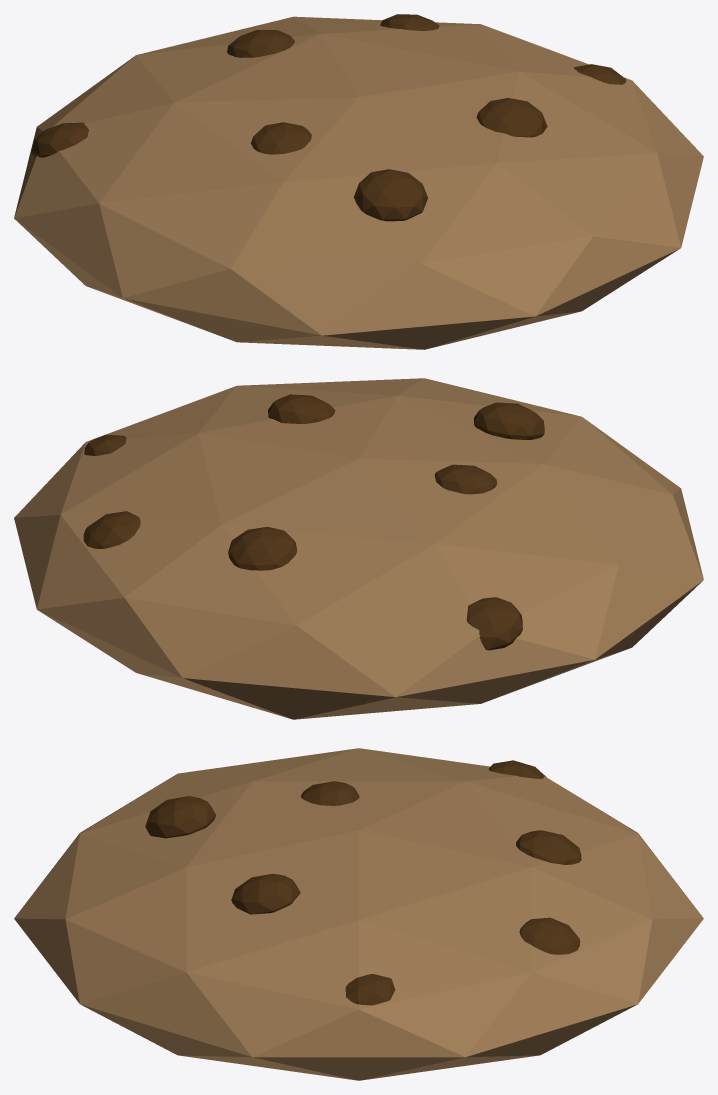
The model's file is ciastka.fbx.
The picture shows the model from 3 angles, top to bottom: view 1: azimuth 30°, elevation 25°; view 2: azimuth 150°, elevation 25°; view 3: azimuth 270°, elevation 25°; orthographic projection. The views are drawn at different scales.
Parts seen in each view (by area): view 1: Icosphere; view 2: Icosphere; view 3: Icosphere.
Boxes of the visible parts, bbox=[...] form: Icosphere: bbox=[14, 14, 703, 349]; Icosphere: bbox=[14, 378, 703, 719]; Icosphere: bbox=[14, 748, 703, 1080].
Size of the model in its own units: 344 by 84.93 by 362.
